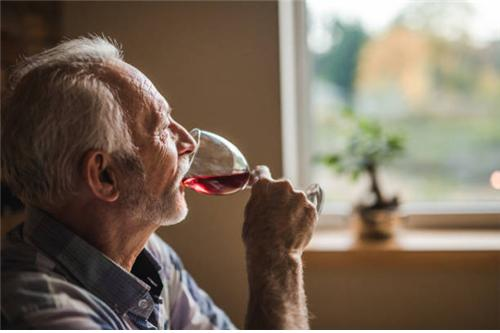alcohol: (182, 127, 323, 217)
